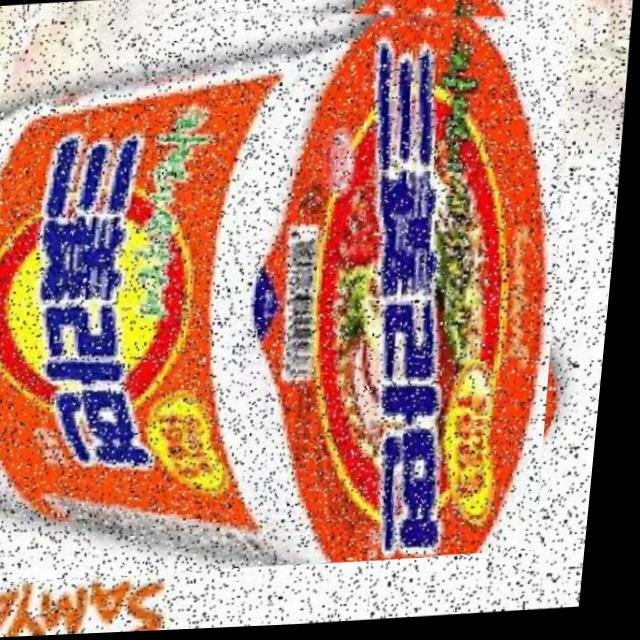Miscellaneous: (0, 0, 589, 585)
